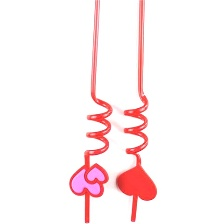drinking_straw: (64, 0, 116, 224), (112, 0, 161, 224)
